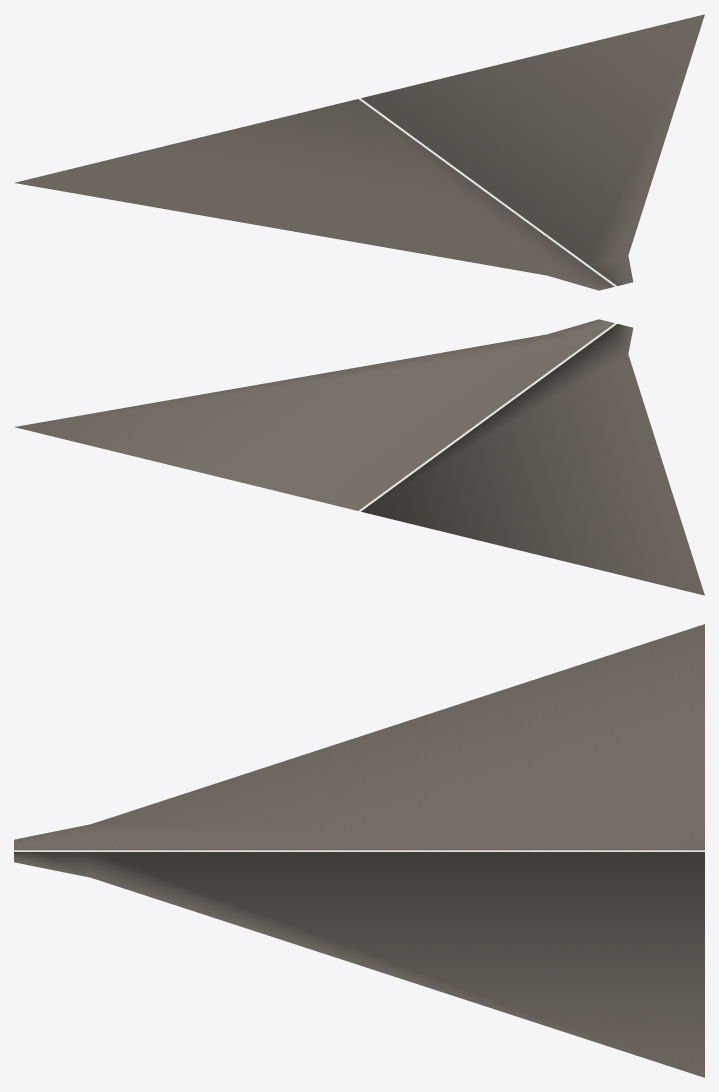
The model's file is RuinedCityGame.gltf.
The picture shows the model from 3 angles, top to bottom: view 1: azimuth 30°, elevation 25°; view 2: azimuth 150°, elevation 25°; view 3: azimuth 270°, elevation 25°; orthographic projection. The views are drawn at different scales.
Parts seen in each view (by area): view 1: Plane.013; view 2: Plane.013; view 3: Plane.013.
Boxes of the visible parts, left/top/right/bottom form: Plane.013: left=14, top=14, right=704, bottom=290; Plane.013: left=14, top=319, right=704, bottom=595; Plane.013: left=14, top=624, right=704, bottom=1077.
Bounding box in the file's own units: 1608 × 0.1 × 1035.
2 materials, 1 textured.
